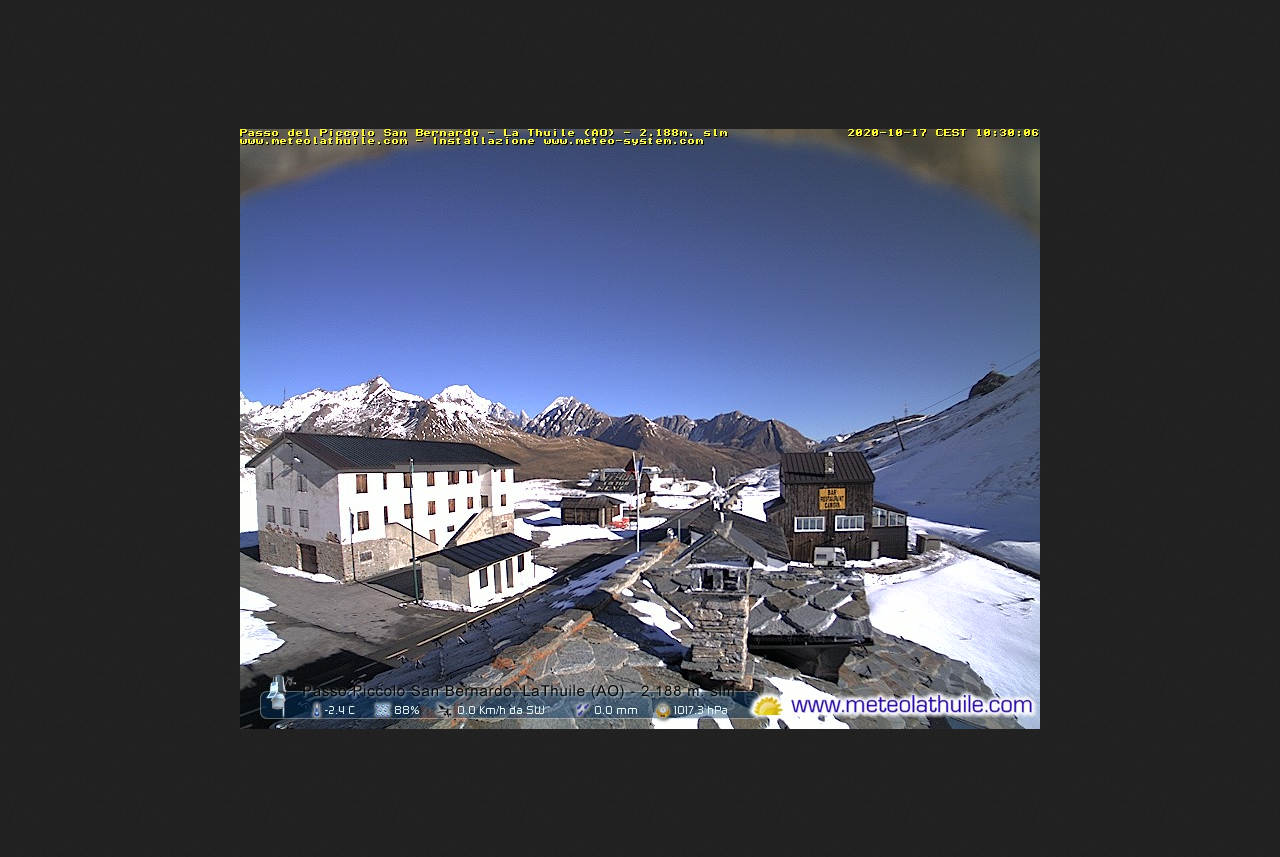maybe: (624, 453, 638, 478)
